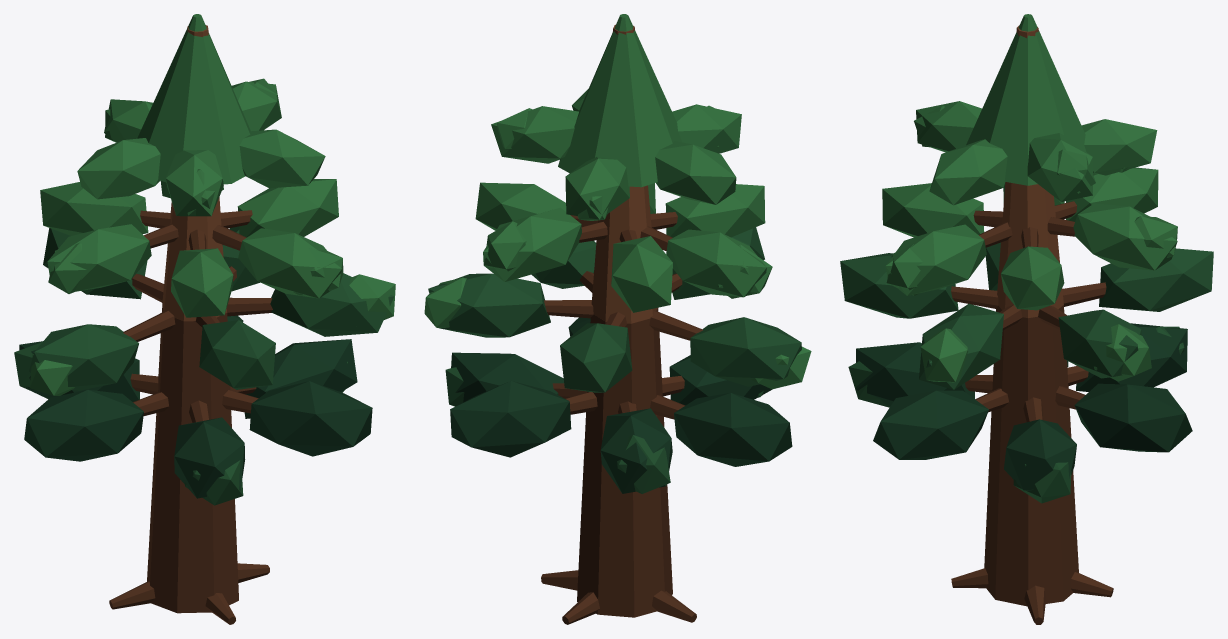
File: tree_pine_c.glb
The picture shows the model from 3 angles, left to right: view 1: azimuth 30°, elevation 25°; view 2: azimuth 150°, elevation 25°; view 3: azimuth 270°, elevation 25°; orthographic projection.
Parts seen in each view (by area): view 1: Trunk_Lower.002, Leader_Needles.002, Needles_1_6.001, Needles_1_4.002, Needles_2_3.002, Needles_3_5.002, Needles_2_4.002, Needles_3_3.002, Needles_3_6.001, Needles_2_5.002, Needles_1_5.002, Needles_3_2.002 (+25 smaller); view 2: Trunk_Lower.002, Leader_Needles.002, Needles_1_2.002, Needles_1_4.002, Needles_2_3.002, Needles_2_1.002, Needles_3_3.002, Needles_2_2.002, Trunk_Upper.002, Needles_4_2.001, Needles_3_2.002, Needles_3_1.002 (+21 smaller); view 3: Trunk_Lower.002, Leader_Needles.002, Needles_1_2.002, Needles_1_6.001, Needles_2_2.002, Needles_3_1.002, Needles_2_4.002, Needles_3_5.002, Trunk_Upper.002, Needles_3_4.002, Needles_4_4.001, Needles_1_1.002 (+22 smaller).
Boxes of the visible parts, x1,y1,x2,y2 form: Trunk_Lower.002: (147,303,238,613); Leader_Needles.002: (137,14,250,184); Needles_1_6.001: (249,381,372,456); Needles_1_4.002: (24,389,143,461); Needles_2_3.002: (29,324,138,390); Needles_3_5.002: (238,228,341,298); Needles_2_4.002: (199,320,275,389); Needles_3_3.002: (47,224,151,291); Needles_3_6.001: (237,179,338,237); Needles_2_5.002: (270,273,394,336); Needles_1_5.002: (174,417,245,498); Needles_3_2.002: (40,182,148,235); Trunk_Lower.002: (577,308,672,617); Leader_Needles.002: (558,14,681,187); Needles_1_2.002: (450,381,571,457); Needles_1_4.002: (674,393,792,466); Needles_2_3.002: (690,317,801,386); Needles_2_1.002: (428,273,550,337); Needles_3_3.002: (666,229,766,297); Needles_2_2.002: (560,323,632,392); Trunk_Upper.002: (591,24,657,323); Needles_4_2.001: (655,141,736,204); Needles_3_2.002: (611,236,672,312); Needles_3_1.002: (483,207,581,281); Trunk_Lower.002: (984,305,1078,606); Leader_Needles.002: (966,14,1085,185); Needles_1_2.002: (1074,383,1192,452); Needles_1_6.001: (873,390,988,459); Needles_2_2.002: (1099,248,1213,311); Needles_3_1.002: (1073,203,1177,270); Needles_2_4.002: (840,253,958,318); Needles_3_5.002: (885,224,986,295); Trunk_Upper.002: (997,25,1063,317); Needles_3_4.002: (882,183,984,237); Needles_4_4.001: (929,139,1007,205); Needles_1_1.002: (1004,419,1076,490).
Size of the model in its own units: 3.54 by 5.8 by 3.43.
